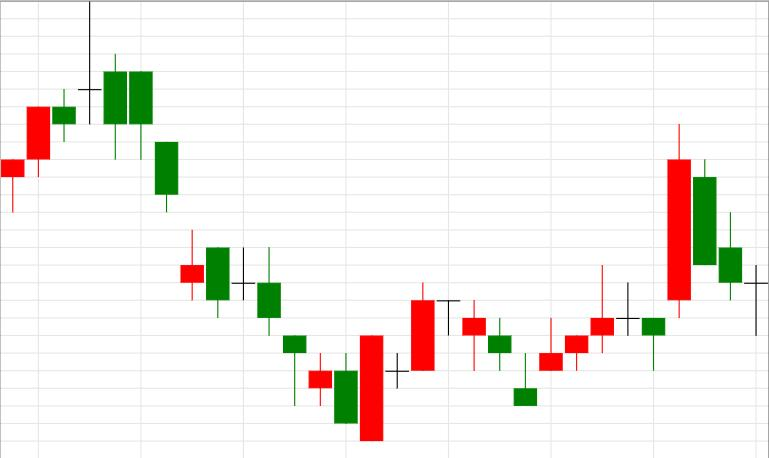bullish_engulfing_rise: (206, 246, 383, 441)
shooting_star_fall: (514, 265, 614, 406)
